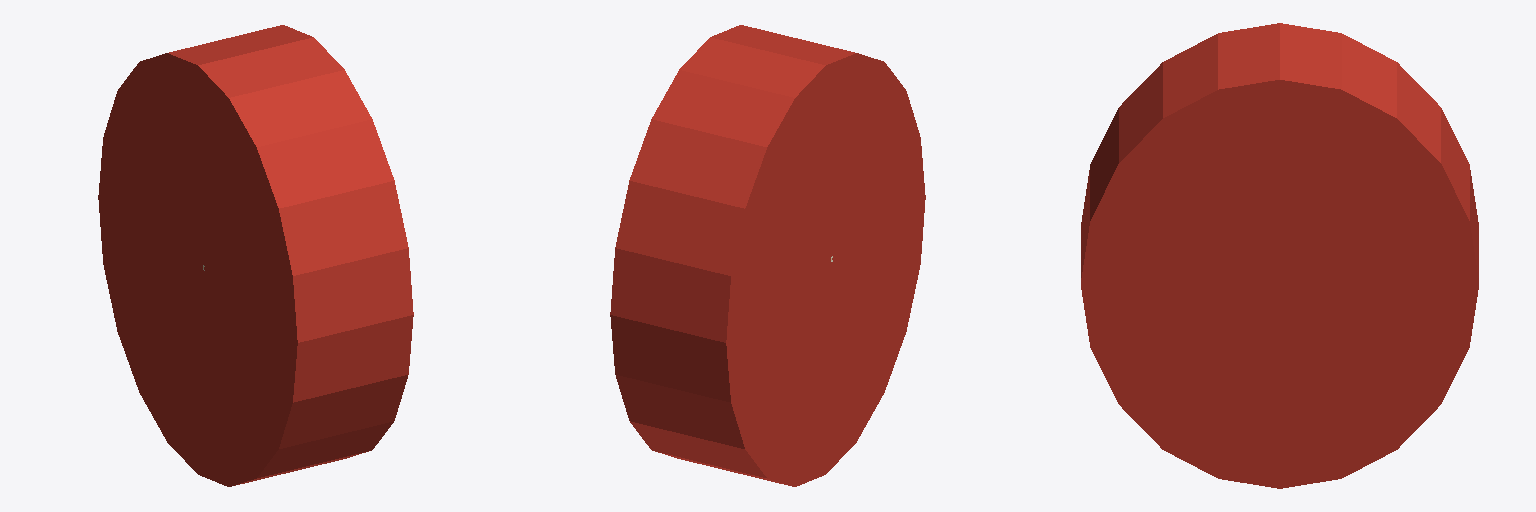
The picture shows the model from 3 angles: view 1: azimuth 30°, elevation 25°; view 2: azimuth 150°, elevation 25°; view 3: azimuth 270°, elevation 25°; orthographic projection.
Parts seen in each view (by area): view 1: pCylinder3; view 2: pCylinder3; view 3: pCylinder3.
Boxes of the visible parts, <box> form: pCylinder3: <box>98,25,413,486</box>; pCylinder3: <box>610,25,925,486</box>; pCylinder3: <box>1081,23,1478,488</box>.
Size of the model in its own units: 0.0387 by 0.1306 by 0.1153.
Materials: 1 (1 with a texture image).